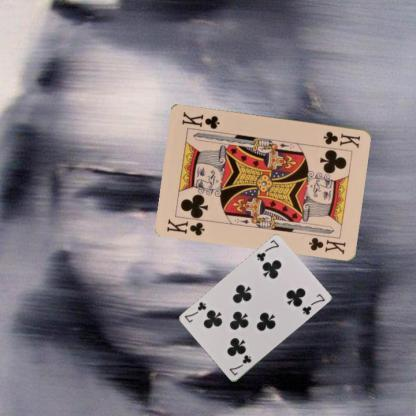7c: (254, 237, 281, 263), (226, 352, 252, 378)
Kc: (321, 128, 362, 150), (164, 216, 206, 237)
